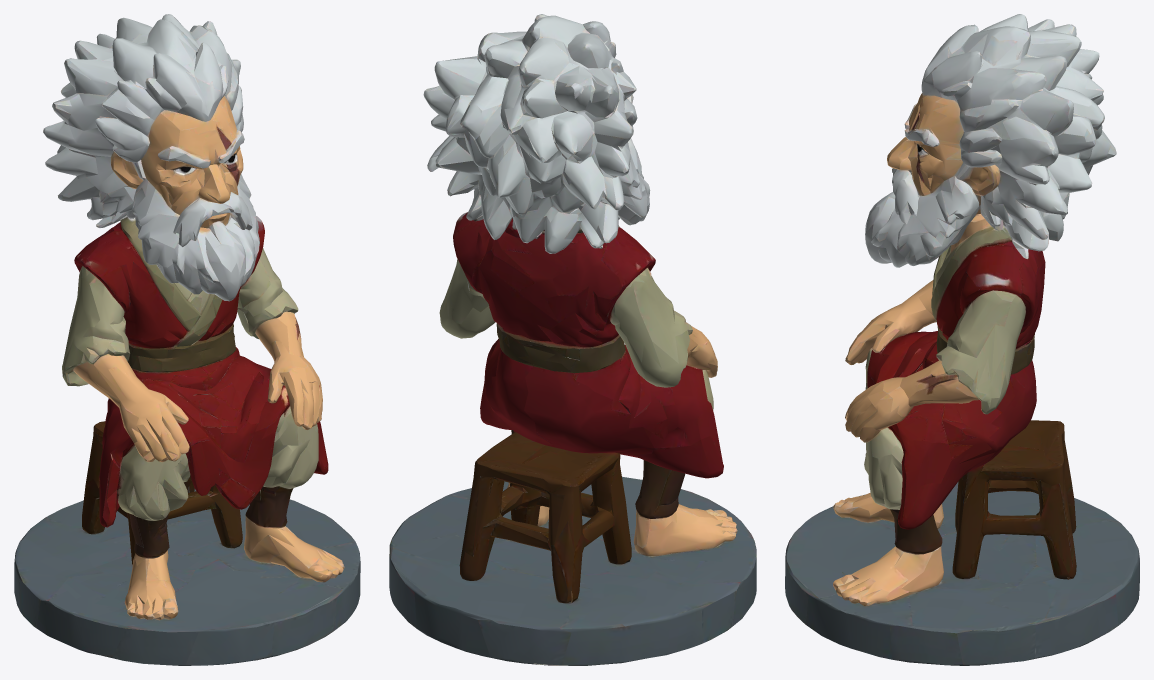
Rendered from jeongjeong2.glb.
3 views of the same model, side by side, from view 1: azimuth 30°, elevation 25°; view 2: azimuth 150°, elevation 25°; view 3: azimuth 270°, elevation 25° (orthographic). The views are drawn at different scales.
Parts seen in each view (by area): view 1: Mesh_0; view 2: Mesh_0; view 3: Mesh_0.
Part boxes in pixels (x1,y1,x2,y2): Mesh_0: (14,14,360,665); Mesh_0: (389,14,756,665); Mesh_0: (785,14,1139,665).
Bounding box in the file's own units: 1.08 × 1.9 × 1.08.
1 material, 1 textured.
